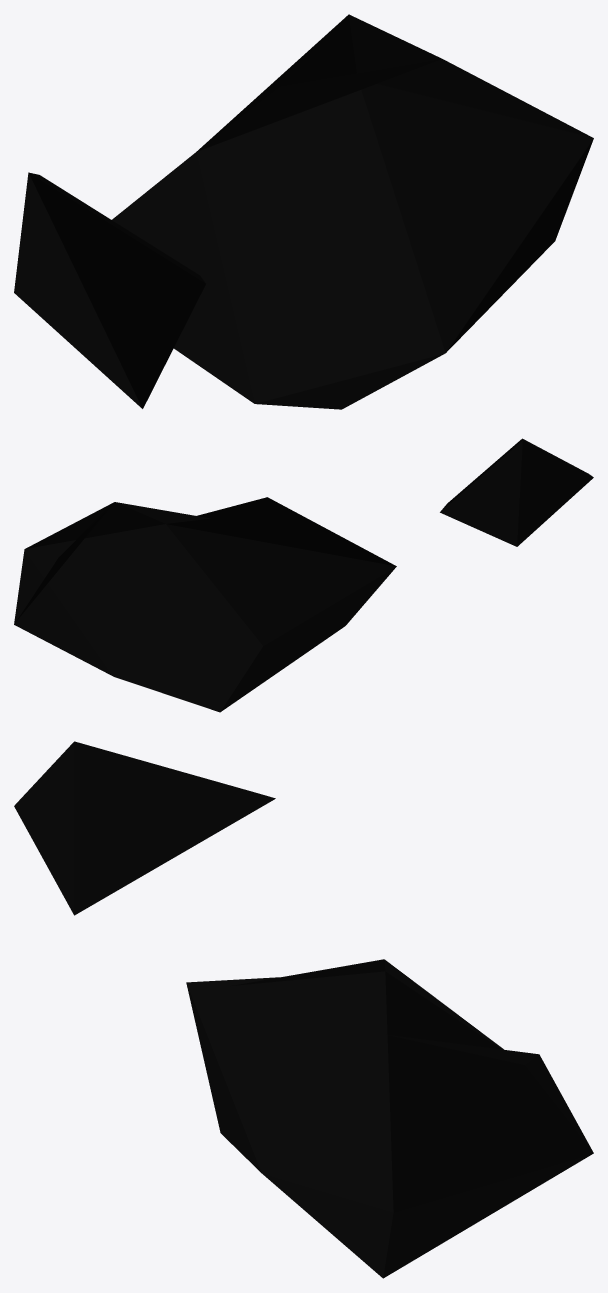
3 views of the same model, one above another, from view 1: azimuth 30°, elevation 25°; view 2: azimuth 150°, elevation 25°; view 3: azimuth 270°, elevation 25° (orthographic). The views are drawn at different scales.
Size of the model in its own units: 0.2036 by 0.0919 by 0.1612.
1 material, 1 textured.
